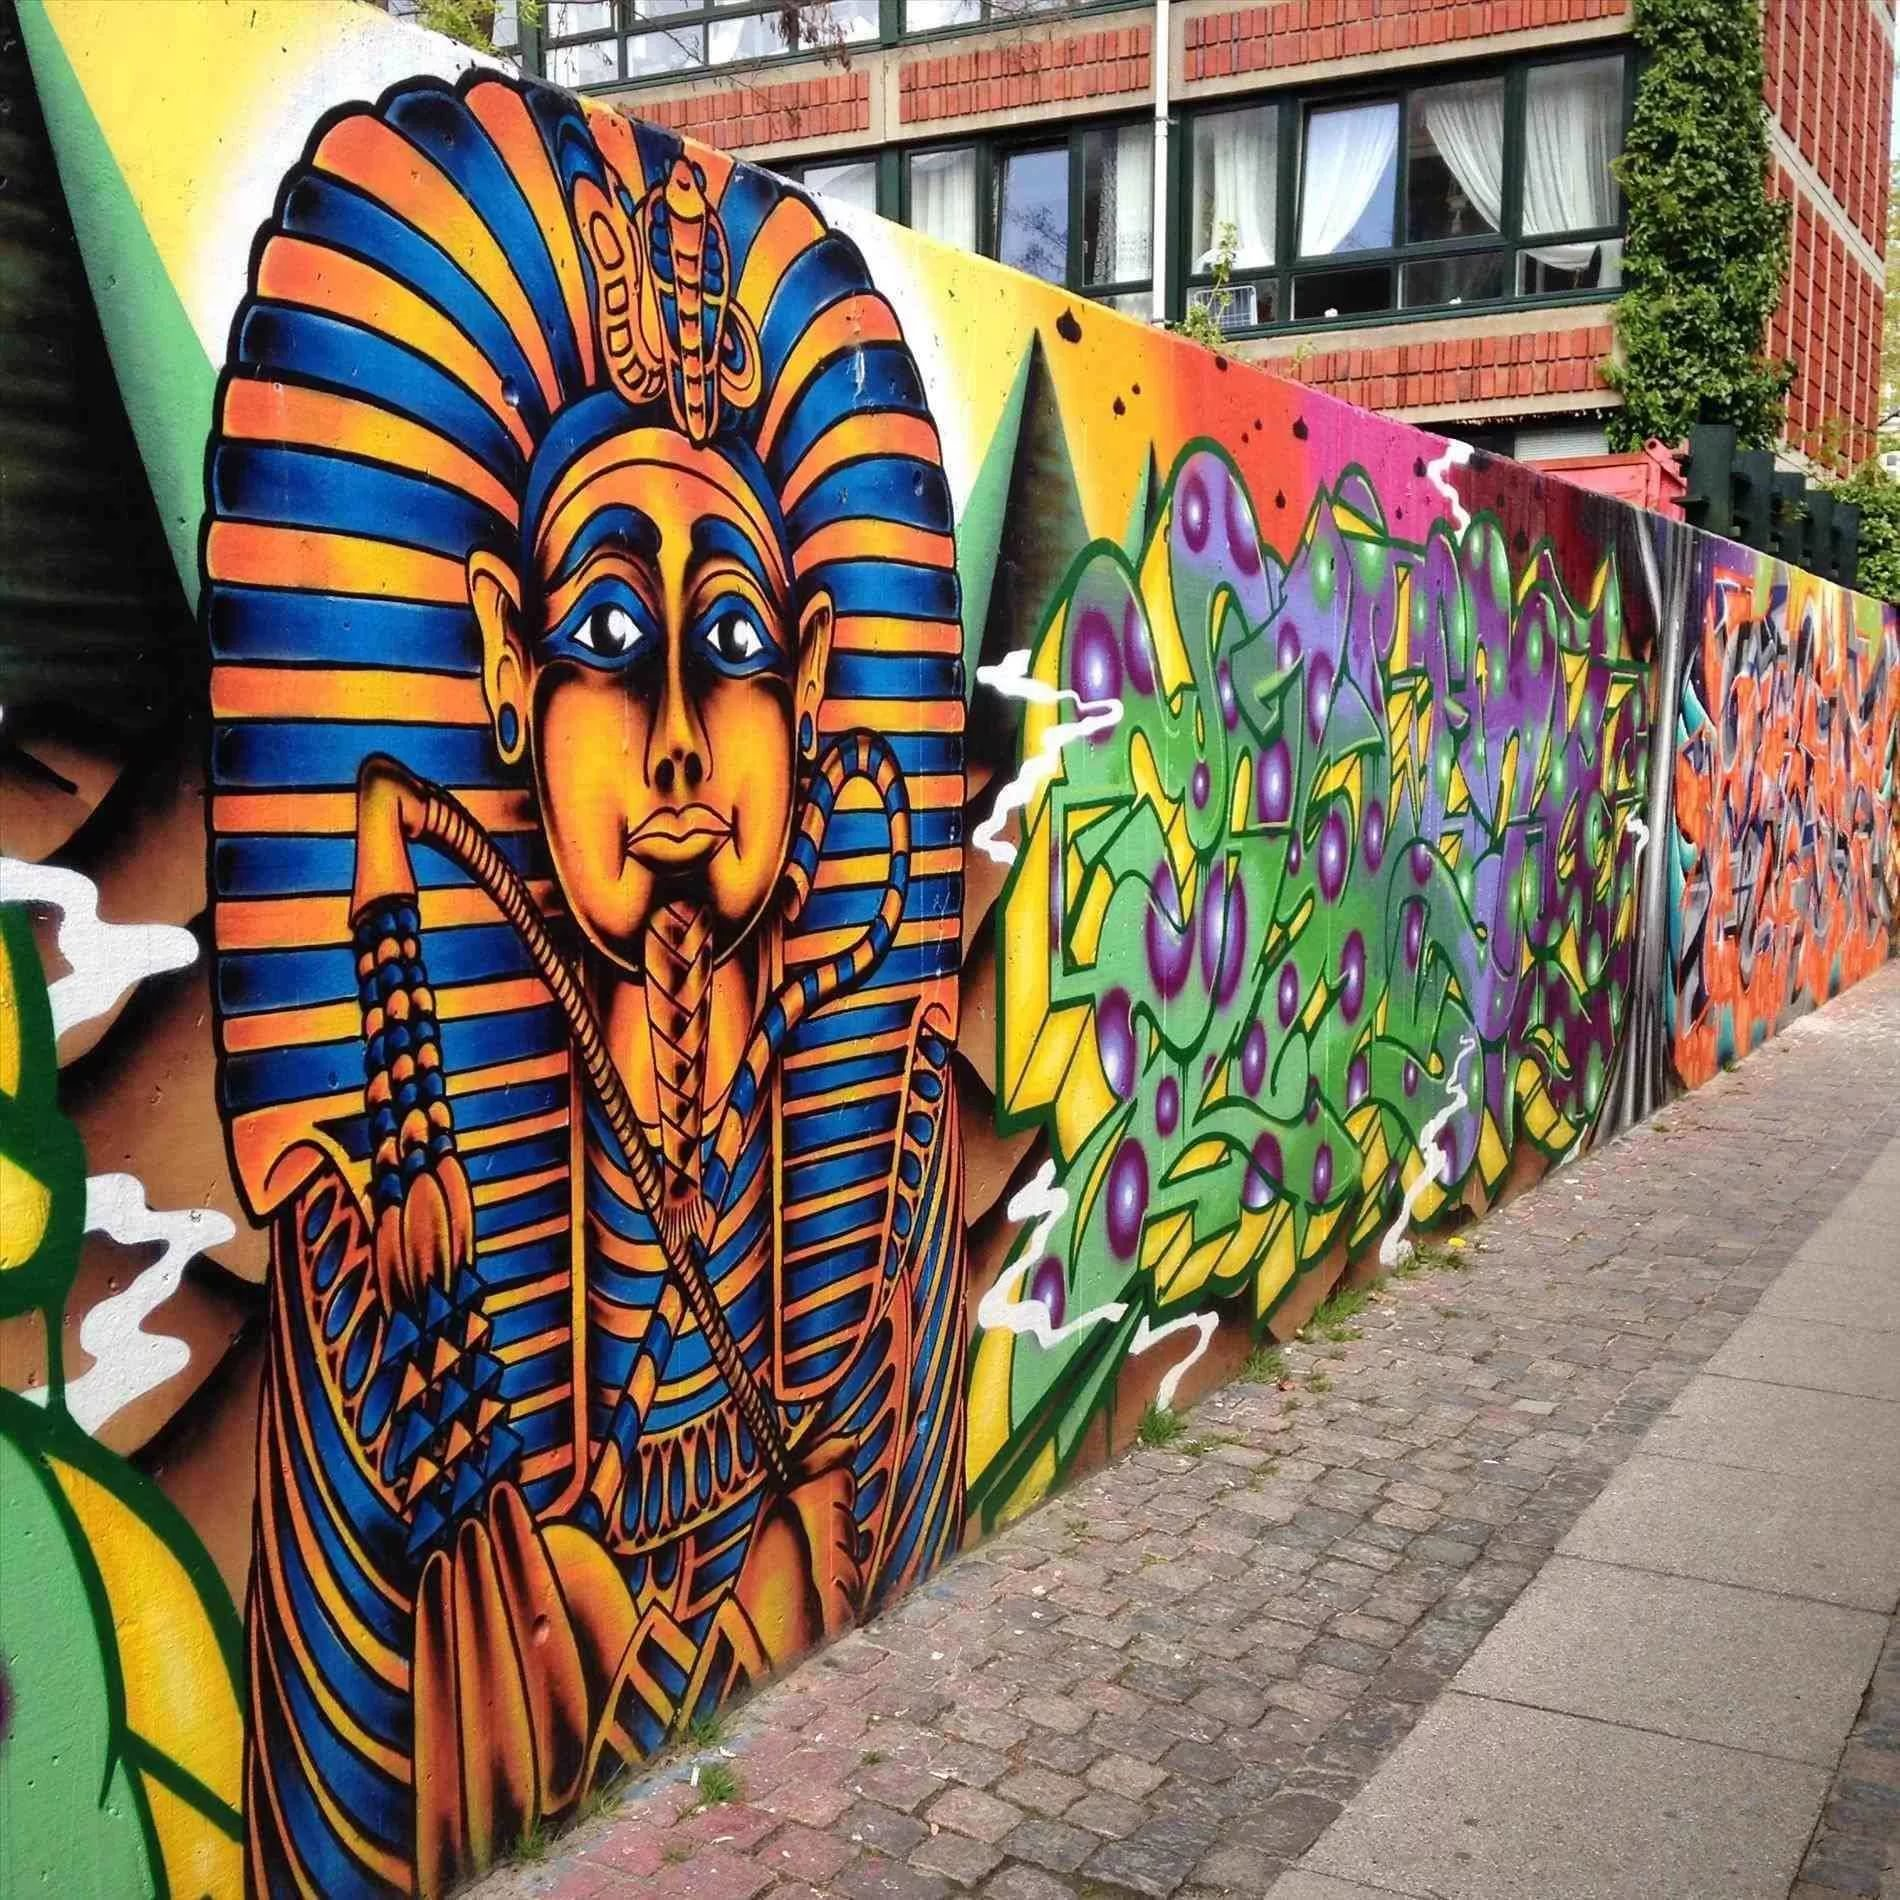graphite: (183, 12, 1011, 1897), (1030, 400, 1618, 1453), (1630, 567, 1900, 1100)
